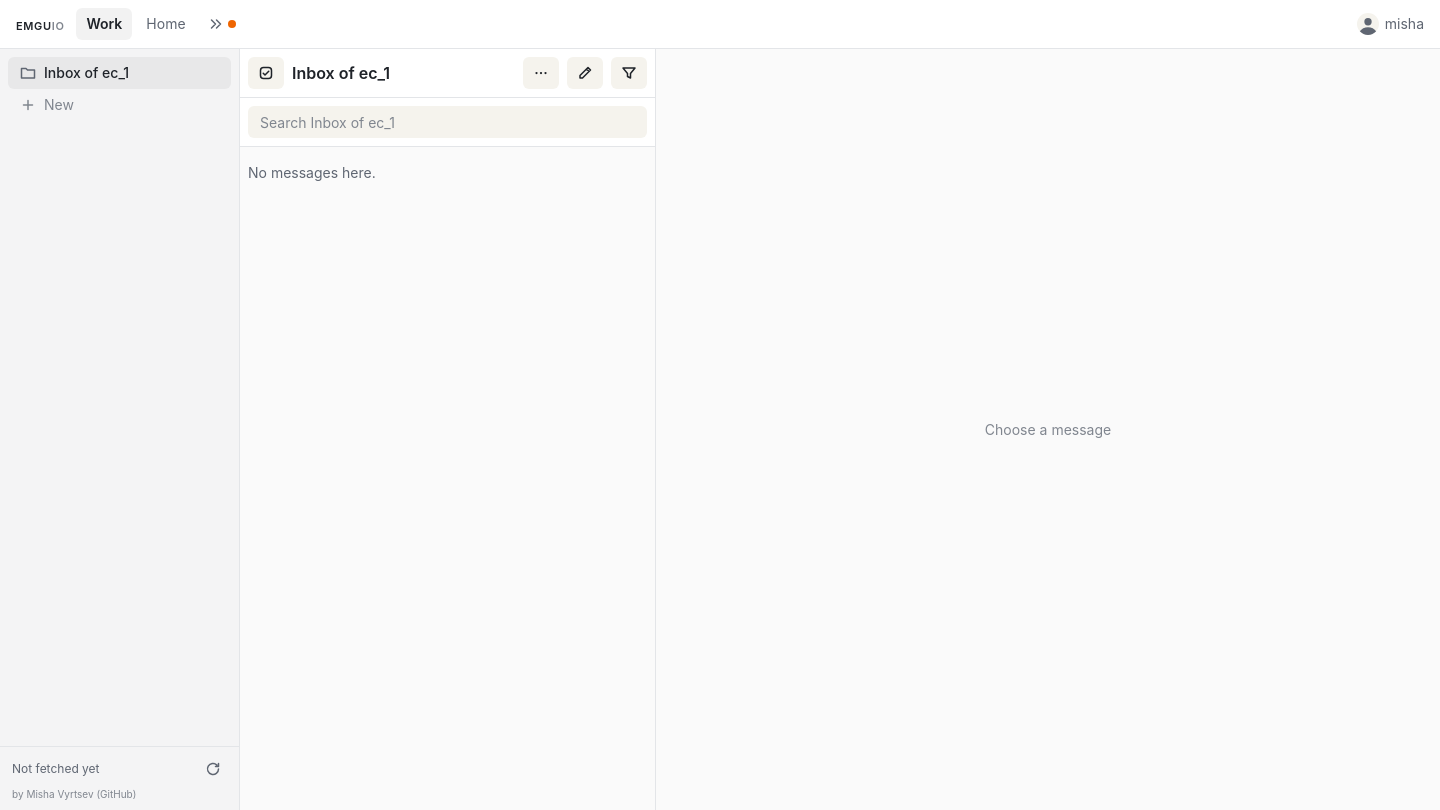
Test: the application › puts the mail accounts that do not fit behind a button
Expected: the heading "Inbox of ec_1" is shown, [292, 63, 390, 83]
Click the button named "Other mail accounts".
click(222, 24)  # box [200, 8, 244, 40]
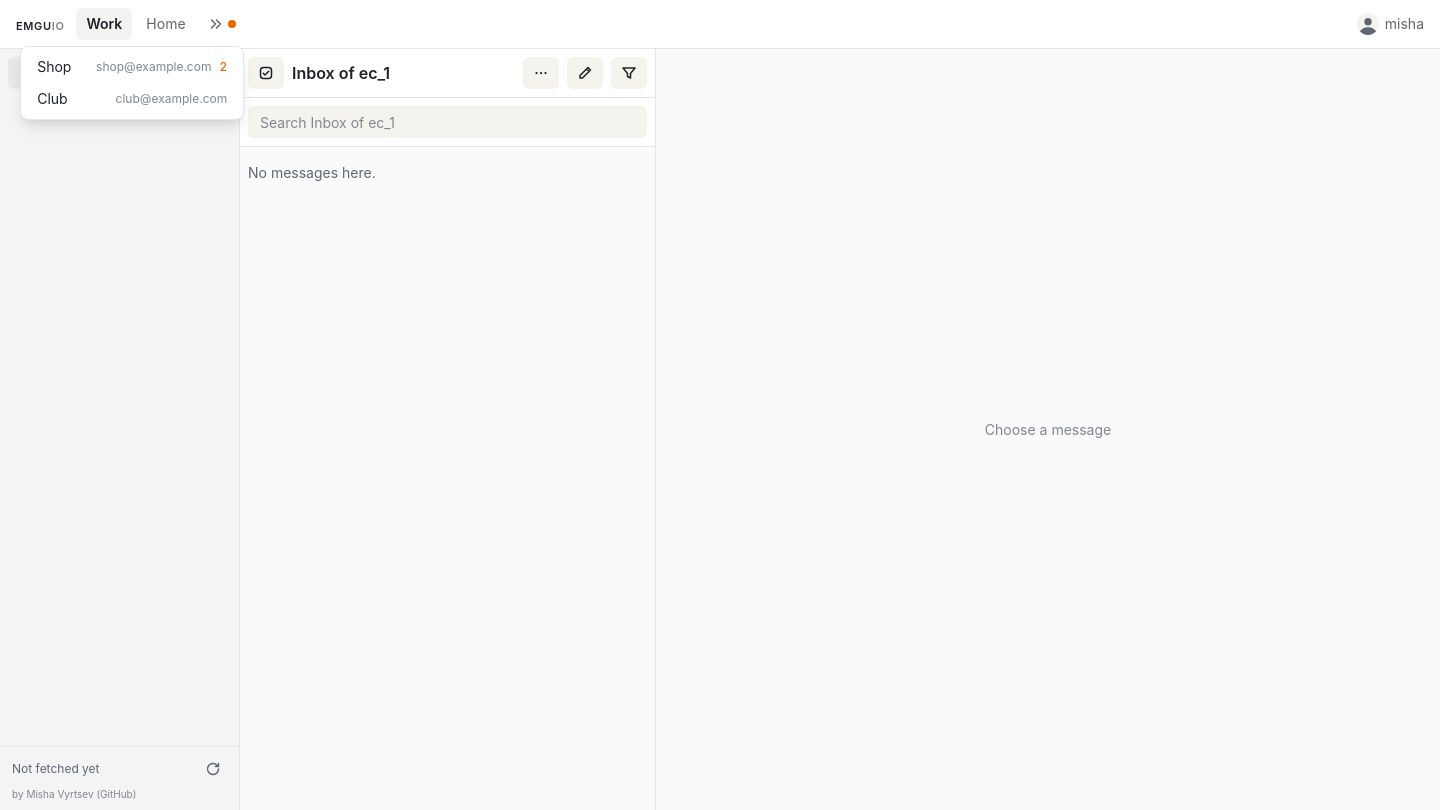
Expected: the menu items read "Shopshop@example.com, unread: 2", "Clubclub@example.com", in this order, [37, 58, 244, 75]; [37, 90, 227, 107]
Click the menu item "Shop shop@example.com 2".
click(153, 66)  # box [37, 58, 268, 75]
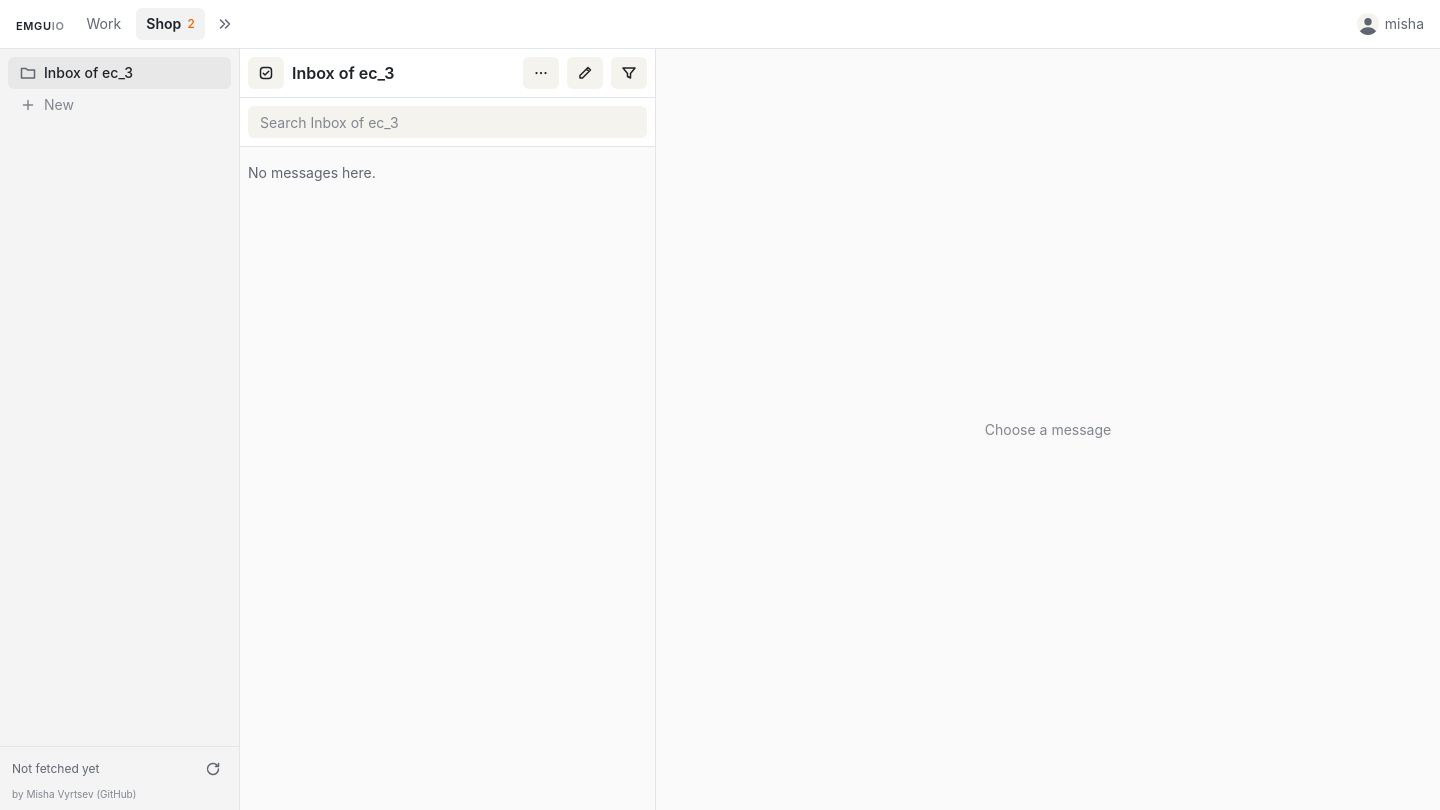
Expected: the heading "Inbox of ec_3" is shown, [292, 63, 394, 83]
